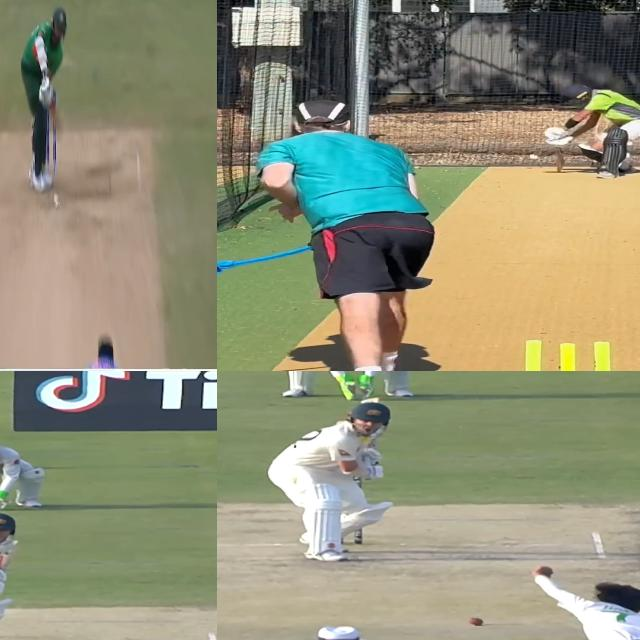Cricket ball: (467, 616, 485, 626), (52, 194, 61, 208), (527, 153, 541, 160)
Stumps: (506, 335, 635, 371)
